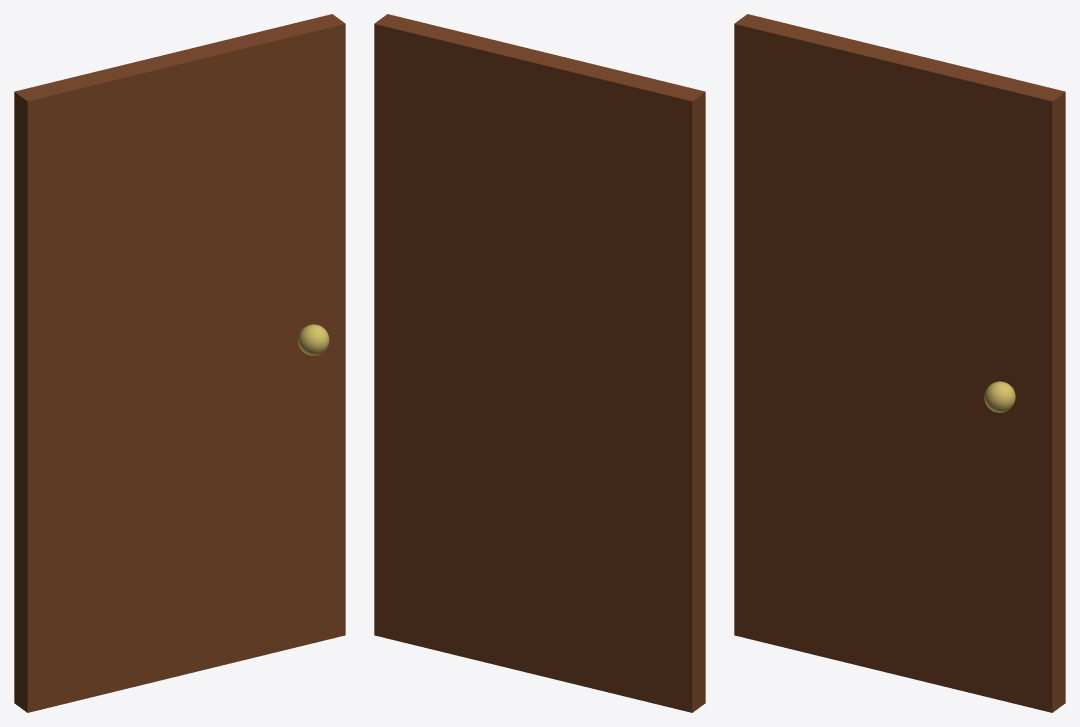
Rendered from door.fbx.
3 views of the same model, side by side, from view 1: azimuth 30°, elevation 25°; view 2: azimuth 150°, elevation 25°; view 3: azimuth 330°, elevation 25° (orthographic).
Parts seen in each view (by area): view 1: Cube, Sphere; view 2: Cube; view 3: Cube, Sphere.
Boxes of the visible parts, x1,y1,x2,y2 form: Cube: (14, 14, 345, 712); Sphere: (298, 324, 329, 355); Cube: (374, 14, 705, 712); Cube: (734, 14, 1065, 712); Sphere: (984, 381, 1015, 412).
Size of the model in its own units: 109 by 200 by 18.64.
